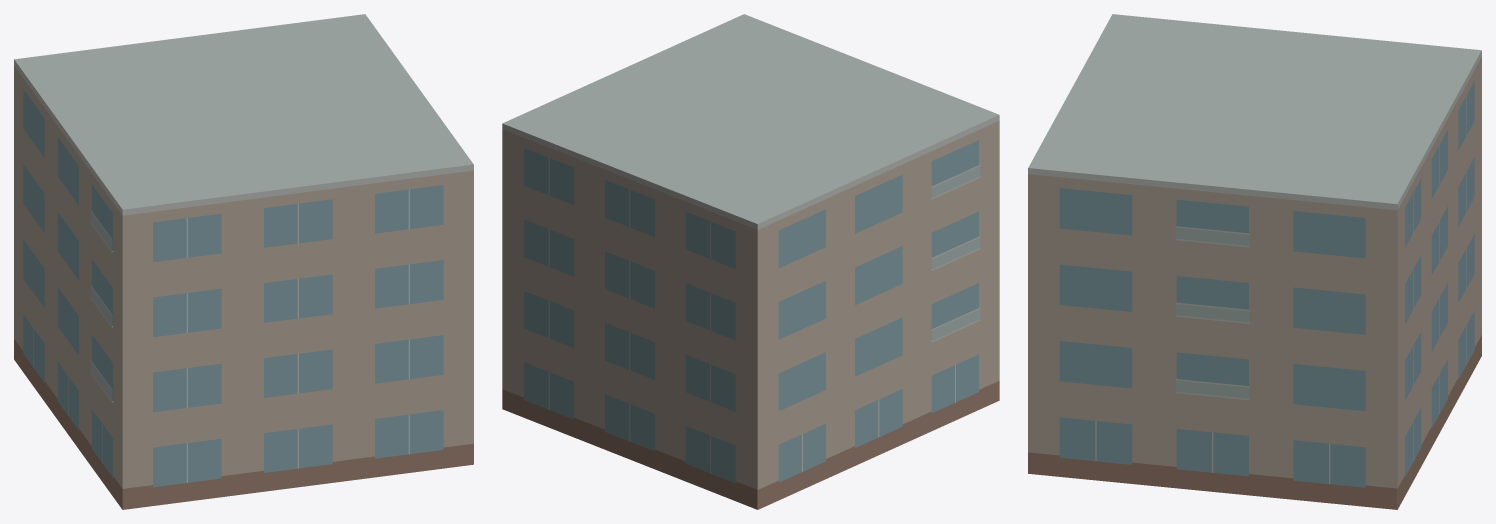
Rendered from residential-4abb9010-0998-4846-a153-96ecdce6b571.glb.
3 views of the same model, side by side, from view 1: azimuth 30°, elevation 25°; view 2: azimuth 150°, elevation 25°; view 3: azimuth 270°, elevation 25° (orthographic). The views are drawn at different scales.
Parts seen in each view (by area): view 1: residential-4abb9010-0998-4846-a153-96ecdce6b571.tmp; view 2: residential-4abb9010-0998-4846-a153-96ecdce6b571.tmp; view 3: residential-4abb9010-0998-4846-a153-96ecdce6b571.tmp.
Boxes of the visible parts, x1=… form: residential-4abb9010-0998-4846-a153-96ecdce6b571.tmp: x1=14, y1=14, x2=473, y2=509; residential-4abb9010-0998-4846-a153-96ecdce6b571.tmp: x1=502, y1=14, x2=999, y2=509; residential-4abb9010-0998-4846-a153-96ecdce6b571.tmp: x1=1028, y1=14, x2=1481, y2=509.
Bounding box in the file's own units: 16.28 × 12.2 × 16.42.
